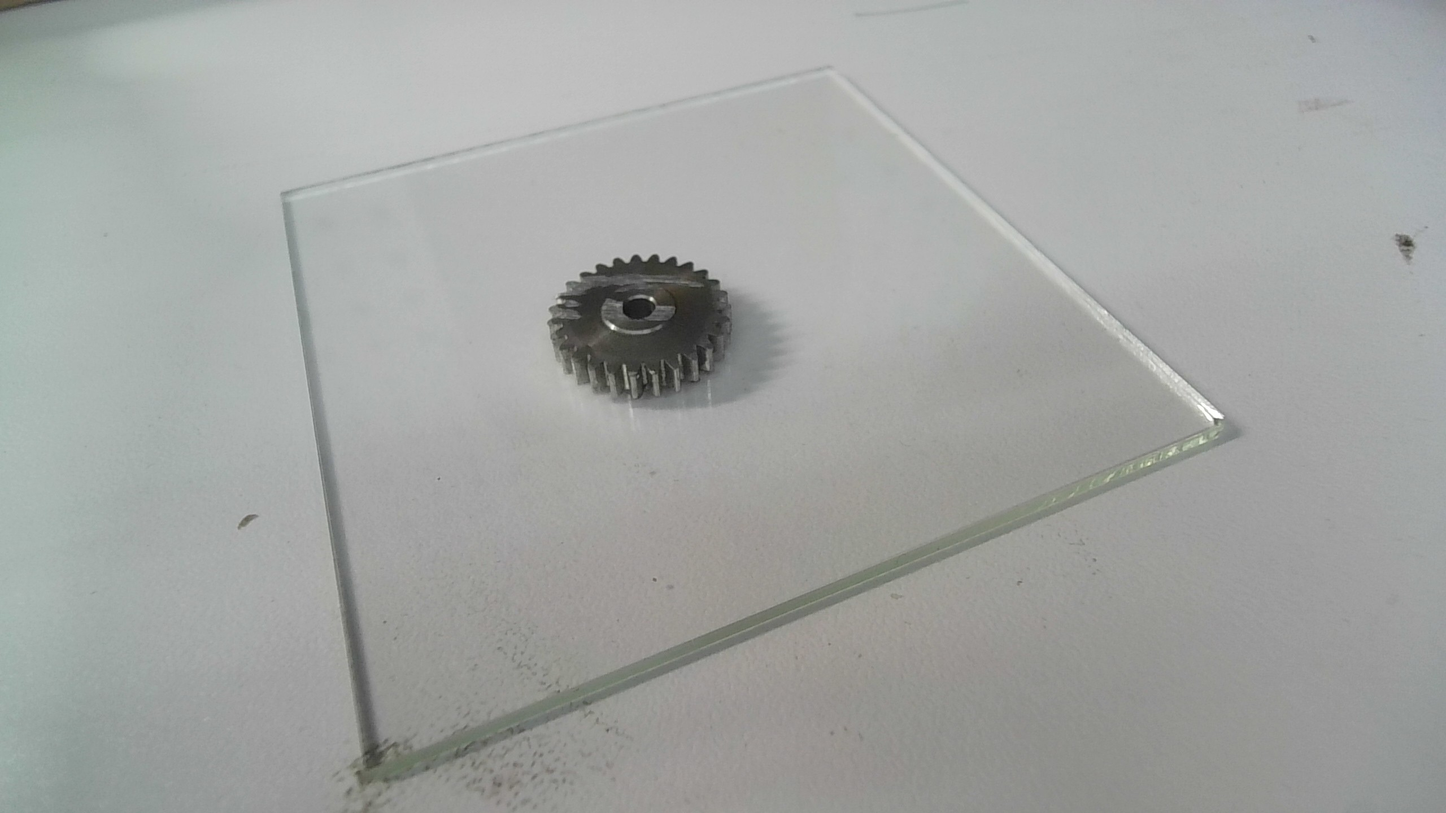gear: (544, 252, 731, 404)
